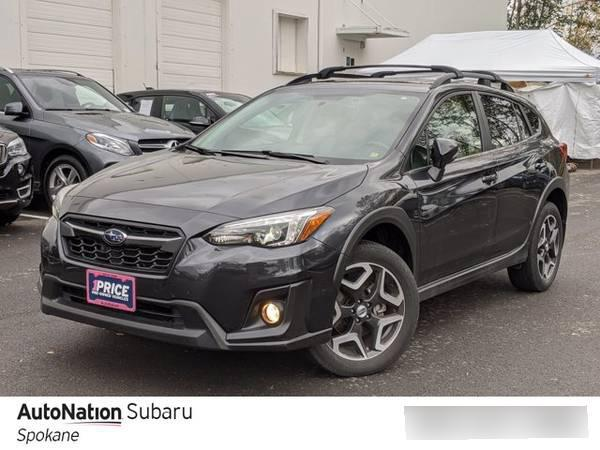Front_Bumper: (38, 211, 345, 353)
Front_Fender: (309, 152, 419, 282)
Front_Left_Door: (411, 150, 497, 296)
Front_Left_Window: (406, 87, 489, 169)
Front_Windshield: (178, 83, 425, 165)
Grille: (54, 215, 182, 280)
Hood: (54, 147, 370, 232)
Left_Headlight: (204, 205, 335, 247)
Rear_Fender: (520, 104, 570, 201)
Rear_Left_Door: (492, 140, 551, 270)
Rear_Left_Window: (478, 94, 535, 153)
Roof: (281, 71, 556, 159)
Wheel: (305, 240, 420, 373), (528, 204, 567, 289)
